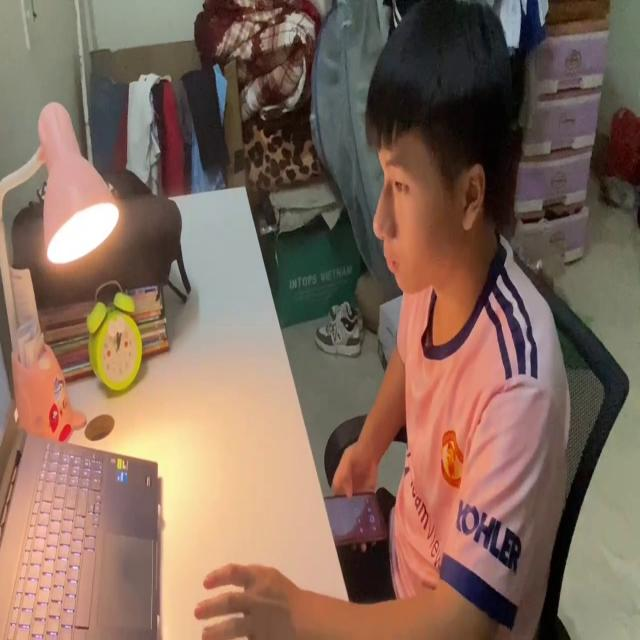laptop: (0, 301, 164, 640)
phone: (323, 480, 388, 552)
student: (191, 0, 569, 640)
